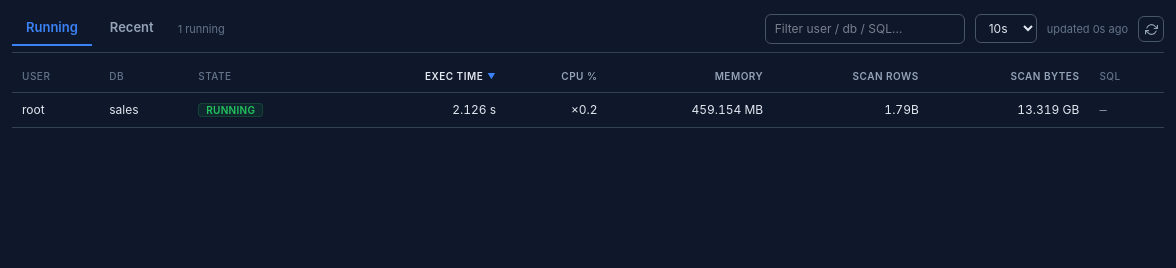
Test: QueriesPanel › expanded detail notes when SQL text is unavailable
The image size is (1176, 268).
Check: the table with test id "queries-table" is shown, box [12,60,1164,128]
Click the row with test id "query-row" at (588, 110), box [12,92,1164,127]
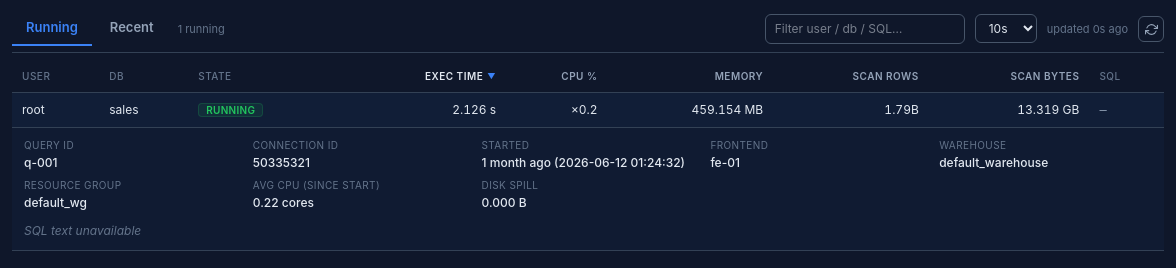
Check: the text "SQL text unavailable" is shown, box [24,222,141,238]
